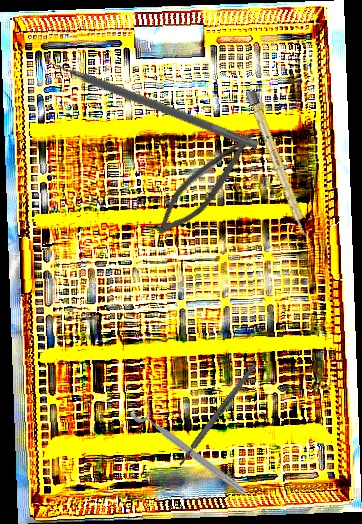Fixation Ring: (128, 396, 255, 500)
Micro Scissor: (148, 117, 263, 246)
Scalpel Handle: (245, 89, 311, 239), (176, 362, 259, 468)
Spatula Surgical: (38, 47, 263, 151)
